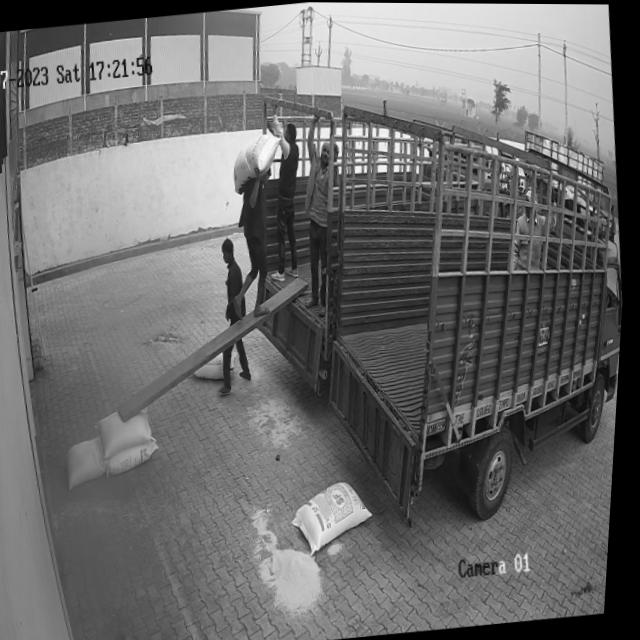sack: (292, 477, 382, 557), (230, 131, 289, 197), (99, 407, 159, 459), (65, 435, 114, 490), (110, 436, 165, 475)
